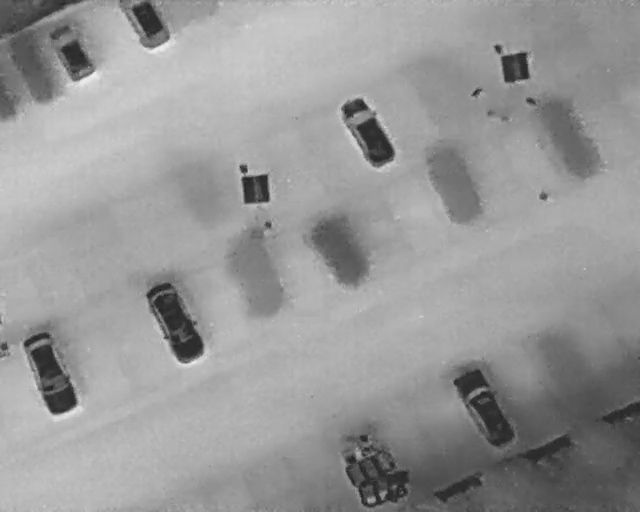Car: (139, 274, 213, 369), (15, 324, 85, 421), (447, 362, 520, 455), (333, 89, 403, 176), (44, 17, 100, 86), (116, 0, 172, 51)
